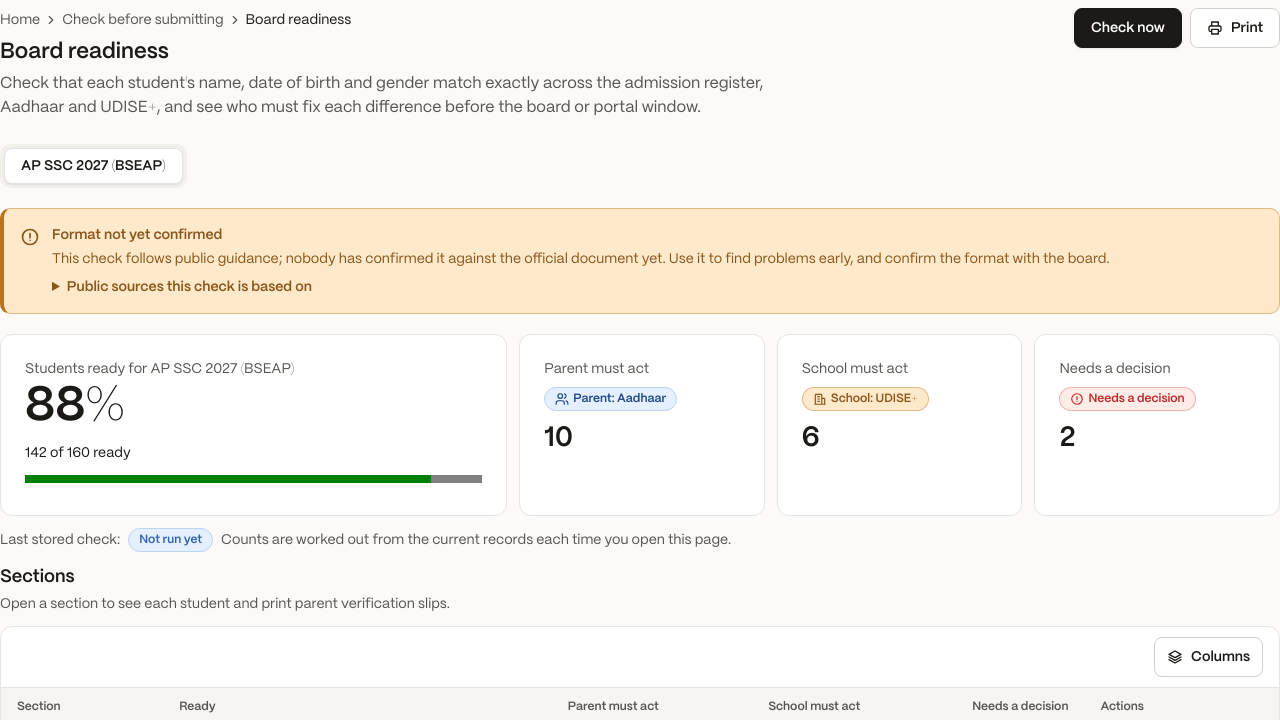
board readiness actions and states (FR-DQ-044, FR-DQ-048) › Check now starts a check of the section shown with an Idempotency-Key
Click the button "Check now".
click(1128, 28)  # box [1074, 8, 1182, 48]
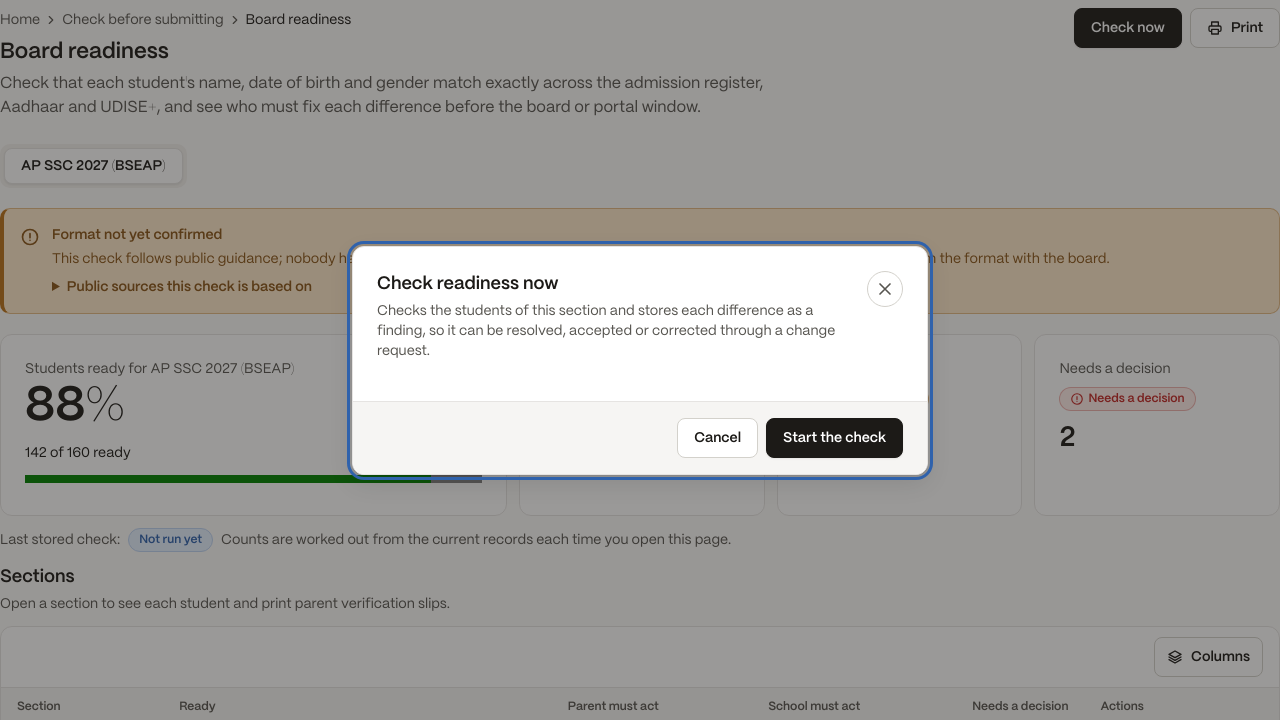
Click the button "Start the check".
click(835, 438)  # box [766, 418, 903, 458]
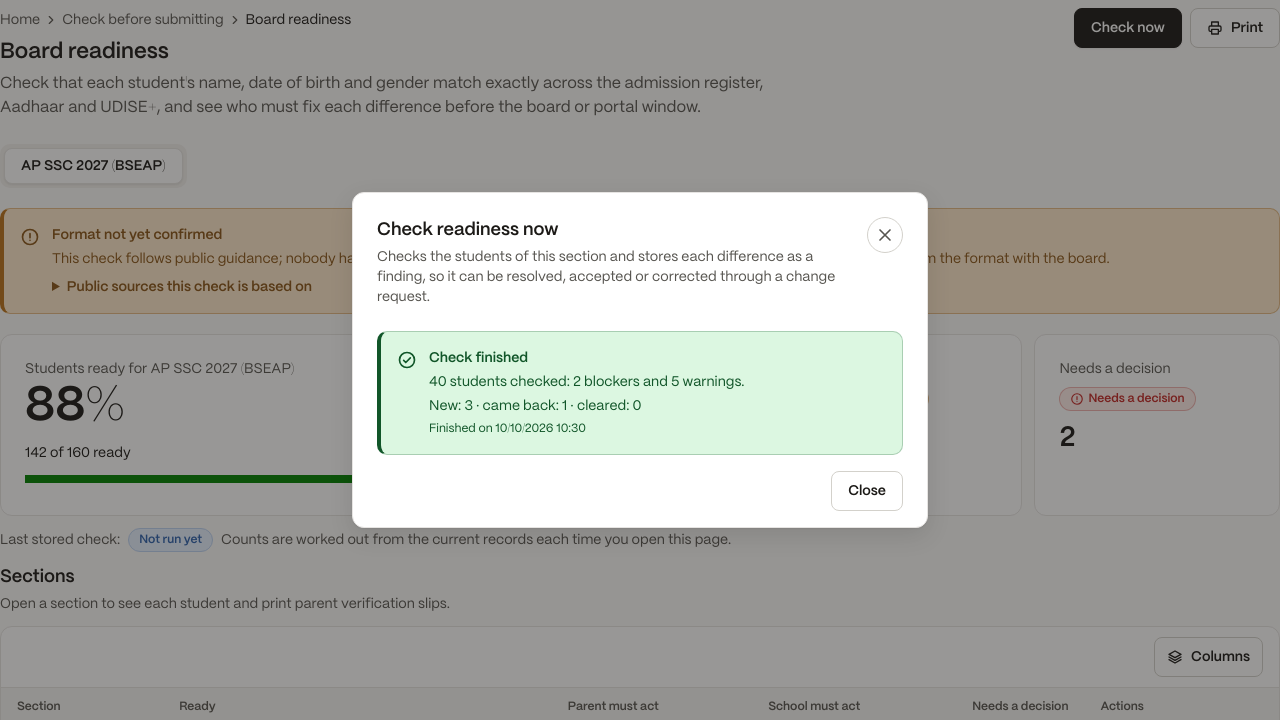
Result: the text "40 students checked: 2 blockers and 5 warnings." is shown at [429, 375, 744, 389]
